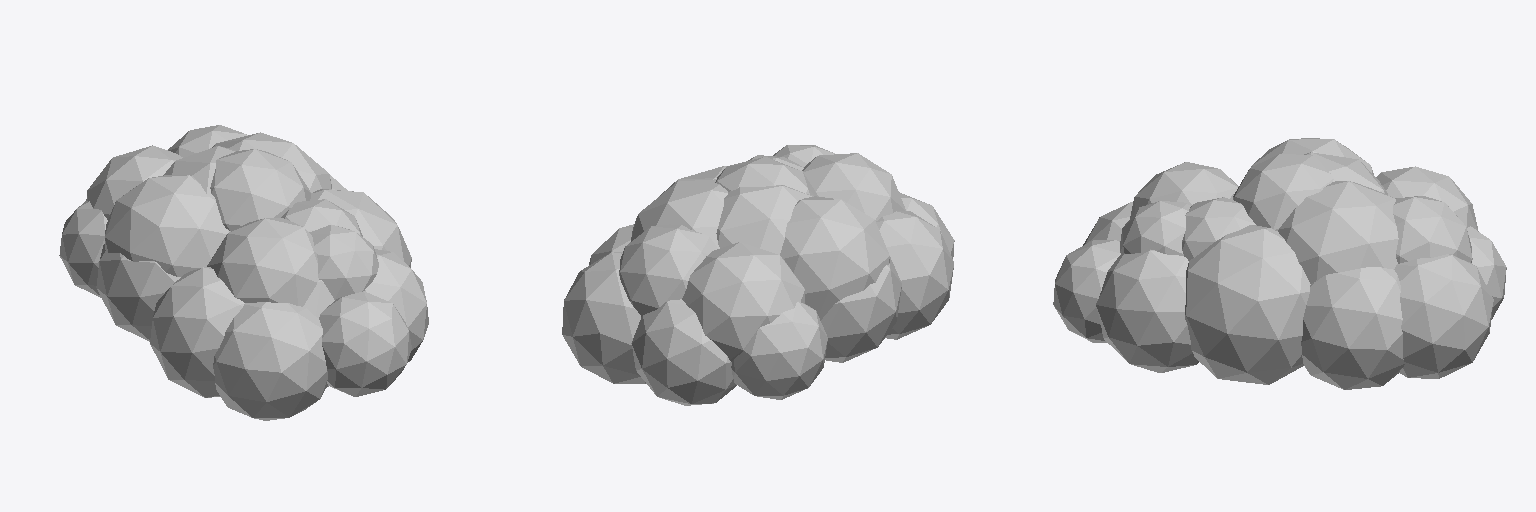
The model's file is Cloud5.obj.
3 renders of one model, left to right at view 1: azimuth 30°, elevation 25°; view 2: azimuth 150°, elevation 25°; view 3: azimuth 270°, elevation 25°, orthographic.
Parts seen in each view (by area): view 1: Икосфера.019_Икосфера.039, Икосфера.013_Икосфера.033, Икосфера.005_Икосфера.025, Икосфера.020_Икосфера.040, Икосфера.012_Икосфера.032, Икосфера.018_Икосфера.038, Икосфера.006_Икосфера.026, Икосфера.021_Икосфера.041, Икосфера.010_Икосфера.030, Икосфера.007_Икосфера.027, Икосфера.014_Икосфера.034, Икосфера_Икосфера.020 (+5 smaller); view 2: Икосфера.014_Икосфера.034, Икосфера.013_Икосфера.033, Икосфера.003_Икосфера.023, Икосфера.008_Икосфера.028, Икосфера.007_Икосфера.027, Икосфера.005_Икосфера.025, Икосфера.016_Икосфера.036, Икосфера.006_Икосфера.026, Икосфера.015_Икосфера.035, Икосфера.012_Икосфера.032, Икосфера.017_Икосфера.037, Икосфера.018_Икосфера.038 (+3 smaller); view 3: Икосфера_Икосфера.020, Икосфера.009_Икосфера.029, Икосфера.008_Икосфера.028, Икосфера.010_Икосфера.030, Икосфера.017_Икосфера.037, Икосфера.018_Икосфера.038, Икосфера.020_Икосфера.040, Икосфера.016_Икосфера.036, Икосфера.012_Икосфера.032, Икосфера.021_Икосфера.041, Икосфера.014_Икосфера.034, Икосфера.011_Икосфера.031 (+4 smaller).
Boxes of the visible parts, x1,y1,x2,y2 form: Икосфера.019_Икосфера.039: [213, 302, 327, 420]; Икосфера.013_Икосфера.033: [105, 175, 228, 276]; Икосфера.005_Икосфера.025: [150, 267, 244, 397]; Икосфера.020_Икосфера.040: [319, 291, 411, 396]; Икосфера.012_Икосфера.032: [207, 218, 318, 306]; Икосфера.018_Икосфера.038: [210, 149, 311, 230]; Икосфера.006_Икосфера.026: [96, 244, 180, 341]; Икосфера.021_Икосфера.041: [309, 225, 378, 299]; Икосфера.010_Икосфера.030: [365, 249, 428, 362]; Икосфера.007_Икосфера.027: [59, 201, 107, 297]; Икосфера.014_Икосфера.034: [86, 145, 182, 219]; Икосфера_Икосфера.020: [310, 189, 411, 267]; Икосфера.014_Икосфера.034: [682, 242, 804, 361]; Икосфера.013_Икосфера.033: [780, 196, 889, 320]; Икосфера.003_Икосфера.023: [631, 299, 736, 405]; Икосфера.008_Икосфера.028: [562, 252, 645, 383]; Икосфера.007_Икосфера.027: [731, 301, 827, 399]; Икосфера.005_Икосфера.025: [876, 211, 953, 339]; Икосфера.016_Икосфера.036: [619, 224, 717, 316]; Икосфера.006_Икосфера.026: [821, 257, 901, 362]; Икосфера.015_Икосфера.035: [716, 185, 813, 254]; Икосфера.012_Икосфера.032: [802, 153, 905, 220]; Икосфера.017_Икосфера.037: [631, 179, 727, 248]; Икосфера.018_Икосфера.038: [715, 157, 818, 196]; Икосфера_Икосфера.020: [1185, 225, 1310, 384]; Икосфера.009_Икосфера.029: [1301, 267, 1404, 389]; Икосфера.008_Икосфера.028: [1394, 254, 1493, 378]; Икосфера.010_Икосфера.030: [1096, 249, 1198, 372]; Икосфера.017_Икосфера.037: [1278, 181, 1398, 283]; Икосфера.018_Икосфера.038: [1233, 154, 1333, 230]; Икосфера.020_Икосфера.040: [1053, 240, 1120, 342]; Икосфера.016_Икосфера.036: [1393, 196, 1472, 263]; Икосфера.012_Икосфера.032: [1130, 162, 1238, 217]; Икосфера.021_Икосфера.041: [1120, 201, 1190, 255]; Икосфера.014_Икосфера.034: [1376, 166, 1478, 231]; Икосфера.011_Икосфера.031: [1182, 197, 1255, 260].
Bounding box in the file's own units: 3.84 × 2.57 × 5.44.